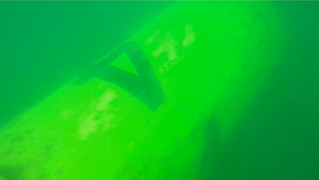4: (72, 40, 165, 113), (198, 114, 221, 180)
pipe: (1, 1, 289, 180)
